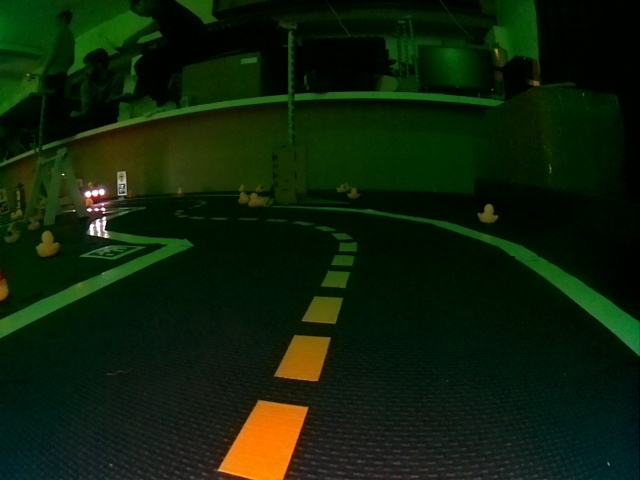Duckie: (38, 231, 56, 254), (478, 204, 498, 221), (249, 194, 263, 206), (348, 188, 358, 197), (239, 193, 248, 203), (256, 184, 265, 194), (176, 187, 185, 196), (239, 184, 247, 193), (338, 185, 345, 192)
Duckiebot: (84, 184, 105, 201)
Intersection sign: (118, 173, 126, 182)
QR code: (82, 244, 145, 258), (118, 183, 127, 194)
